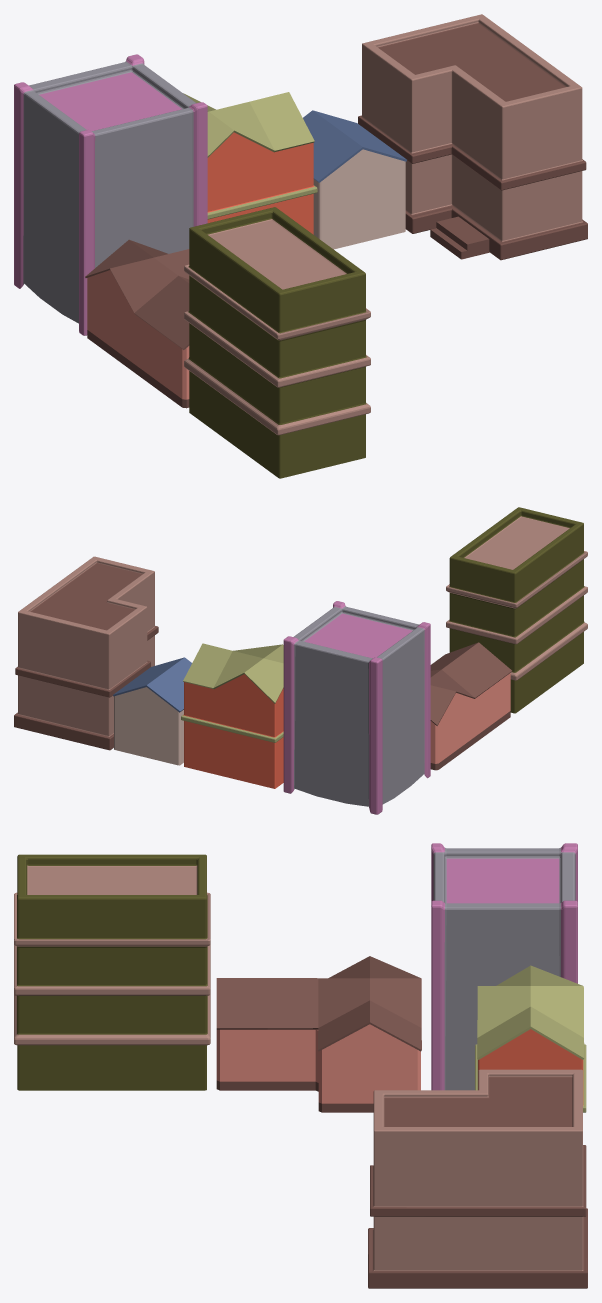
File: RUAS.fbx
3 renders of one model, top to bottom at view 1: azimuth 30°, elevation 25°; view 2: azimuth 150°, elevation 25°; view 3: azimuth 270°, elevation 25°, orthographic. The views are drawn at different scales.
Parts seen in each view (by area): view 1: Predio_1, Predio_3, Predio_2, Casa_2, Casa_3, Casa_2.001, Casa_2.002, Casa_2.003, Casa_3.001, Cube.001, Cube; view 2: Predio_2, Predio_1, Predio_3, Casa_2, Casa_3, Casa_2.001, Casa_2.003, Casa_2.002, Casa_3.001; view 3: Predio_1, Predio_3, Predio_2, Casa_2.001, Casa_2.002, Casa_2.003, Casa_2.
Part boxes in pixels (x1=…): Predio_1: x1=184, y1=207, x2=370, y2=478; Predio_3: x1=358, y1=14, x2=587, y2=260; Predio_2: x1=14, y1=54, x2=207, y2=335; Casa_2: x1=207, y1=132, x2=317, y2=234; Casa_3: x1=313, y1=149, x2=405, y2=249; Casa_2.001: x1=87, y1=270, x2=189, y2=408; Casa_2.002: x1=85, y1=239, x2=189, y2=349; Casa_2.003: x1=183, y1=92, x2=314, y2=157; Casa_3.001: x1=303, y1=110, x2=406, y2=182; Cube.001: x1=436, y1=216, x2=489, y2=250; Cube: x1=430, y1=228, x2=489, y2=259; Predio_2: x1=283, y1=601, x2=430, y2=814; Predio_1: x1=446, y1=507, x2=587, y2=713; Predio_3: x1=14, y1=556, x2=158, y2=750; Casa_2: x1=181, y1=674, x2=283, y2=788; Casa_3: x1=114, y1=687, x2=183, y2=765; Casa_2.001: x1=430, y1=673, x2=510, y2=770; Casa_2.003: x1=183, y1=643, x2=283, y2=703; Casa_2.002: x1=430, y1=642, x2=511, y2=725; Casa_3.001: x1=113, y1=657, x2=191, y2=712; Predio_1: x1=14, y1=854, x2=210, y2=1090; Predio_3: x1=368, y1=1069, x2=587, y2=1288; Predio_2: x1=431, y1=843, x2=577, y2=1090; Casa_2.001: x1=216, y1=1024, x2=420, y2=1112; Casa_2.002: x1=216, y1=956, x2=421, y2=1051; Casa_2.003: x1=477, y1=965, x2=584, y2=1059; Casa_2: x1=475, y1=1029, x2=586, y2=1112.
Bounding box in the file's own units: 2509 × 1002 × 2494.
